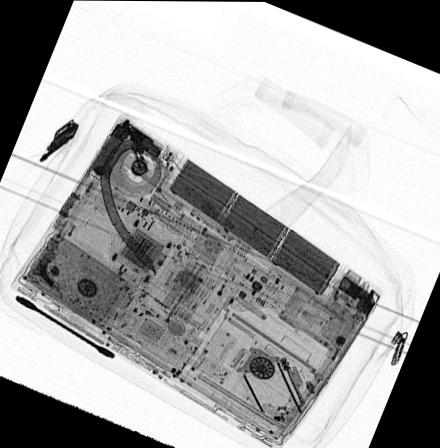Wrench: (13, 294, 117, 360)
